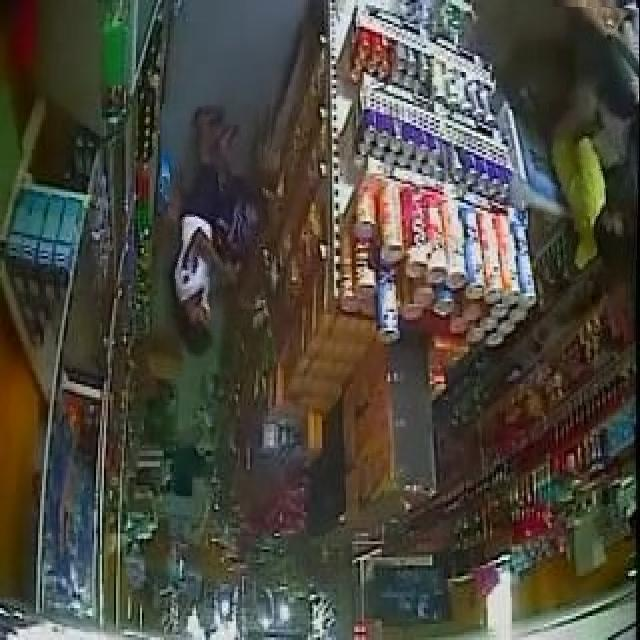normal: (162, 104, 276, 376), (538, 7, 639, 282)
